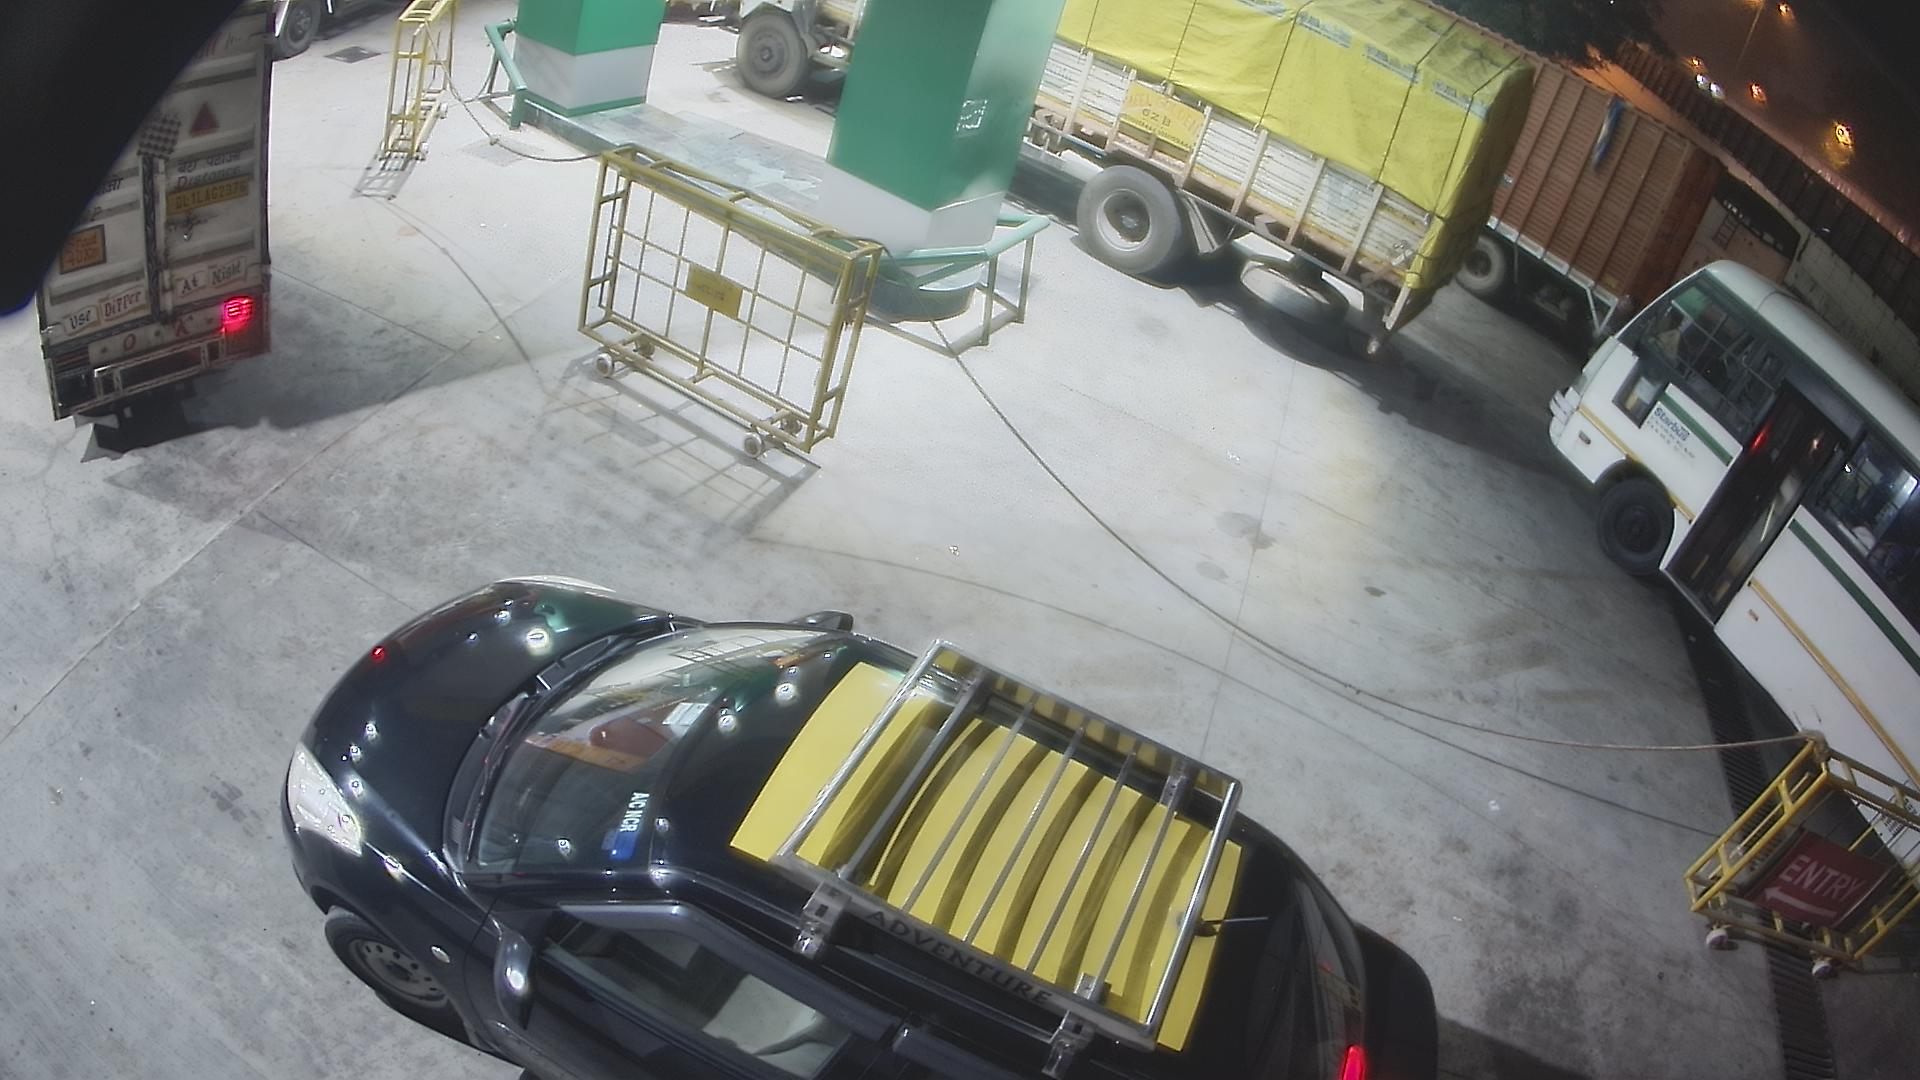Car: (266, 542, 1458, 1076)
HMV: (641, 0, 1556, 377), (1524, 231, 1917, 971), (5, 1, 294, 452), (1407, 0, 1746, 378), (1652, 149, 1822, 357), (229, 0, 468, 73)
